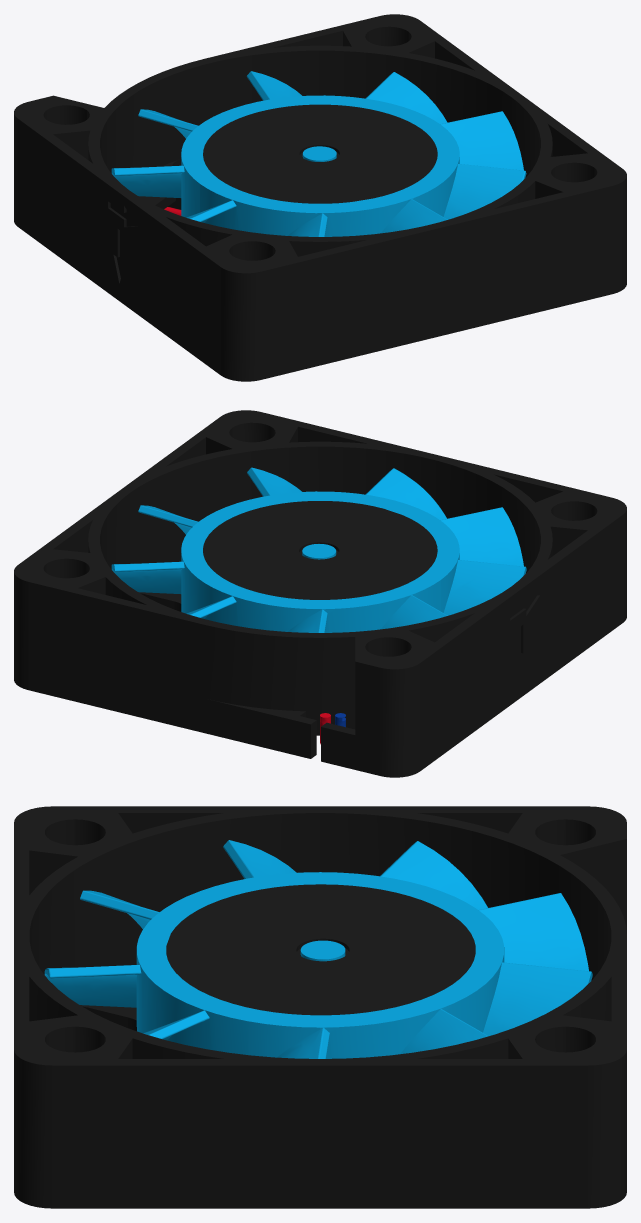
The model's file is Fan.fbx.
3 views of the same model, one above another, from view 1: azimuth 30°, elevation 25°; view 2: azimuth 150°, elevation 25°; view 3: azimuth 270°, elevation 25° (orthographic). The views are drawn at different scales.
Parts seen in each view (by area): view 1: empty_2, empty_3; view 2: empty_2, empty_3; view 3: empty_2, empty_3.
Boxes of the visible parts, left/top/right/bottom form: empty_2: left=14, top=14, right=626, bottom=381; empty_3: left=111, top=71, right=526, bottom=236; empty_2: left=14, top=410, right=626, bottom=777; empty_3: left=111, top=467, right=526, bottom=632; empty_2: left=14, top=806, right=626, bottom=1208; empty_3: left=44, top=840, right=592, bottom=1058.
Bounding box in the file's own units: 4 × 1.03 × 4.
